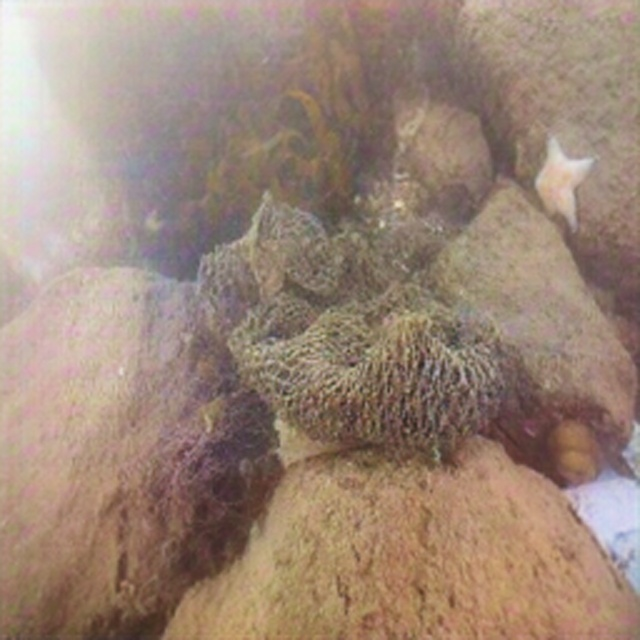mine: (196, 189, 505, 450)
